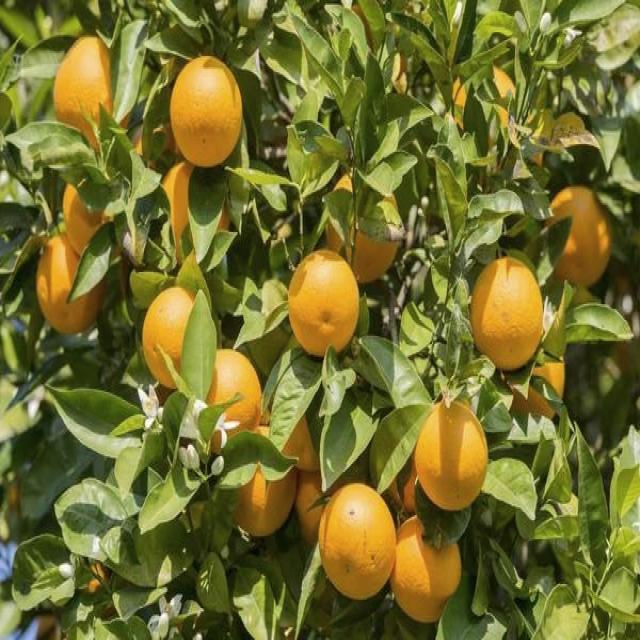Bunga: (197, 396, 234, 442), (136, 380, 168, 430), (159, 590, 186, 618), (514, 8, 530, 35), (188, 444, 202, 474), (568, 24, 584, 50), (57, 560, 78, 579), (158, 611, 172, 637), (538, 8, 552, 34), (213, 456, 226, 478), (180, 446, 190, 472)
Jeruk Sudah Matang: (318, 483, 399, 605), (284, 246, 362, 362), (51, 32, 129, 147), (330, 170, 402, 290), (220, 429, 300, 536), (471, 254, 544, 370), (170, 54, 242, 168), (391, 510, 463, 621), (414, 402, 486, 512), (492, 330, 564, 430), (546, 190, 615, 293), (34, 235, 108, 330), (200, 348, 264, 452), (143, 284, 205, 390), (64, 184, 113, 258), (296, 463, 335, 542), (276, 408, 321, 469), (163, 174, 190, 240)
